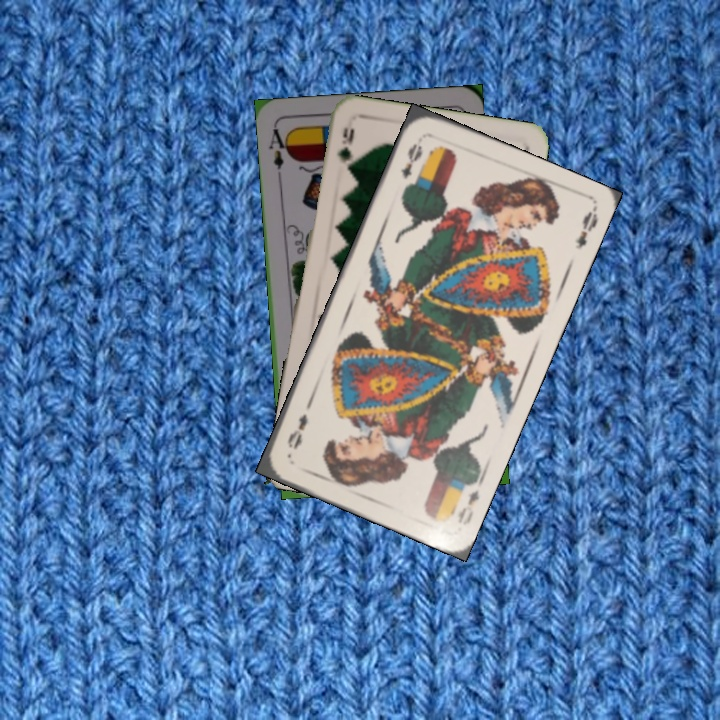EA: (264, 124, 292, 182)
EO: (447, 473, 486, 528), (396, 139, 425, 182)
G9: (332, 123, 355, 165)
